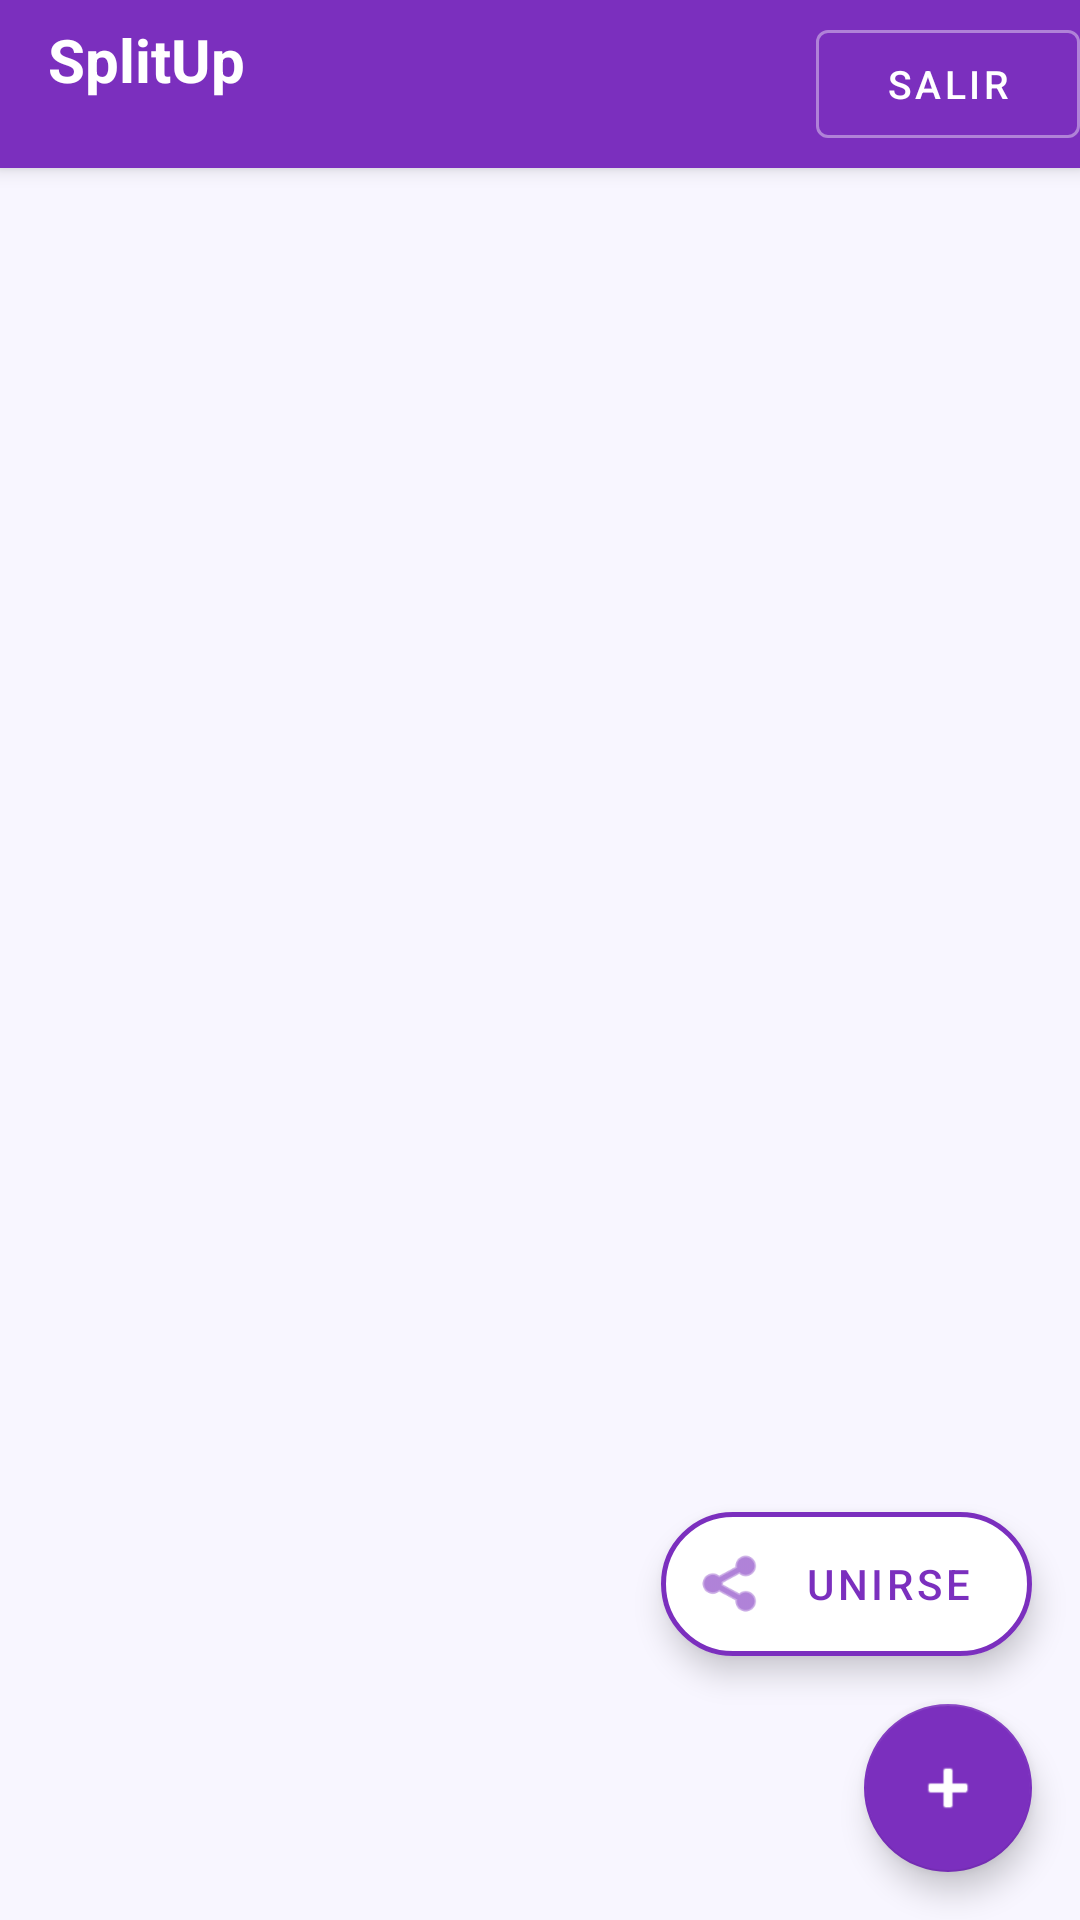

Where icons sit on this 1080×1920 app screen, as bbox(x1, y1, x2, y2):
Nuevo grupo: bbox(864, 1704, 1032, 1872)
